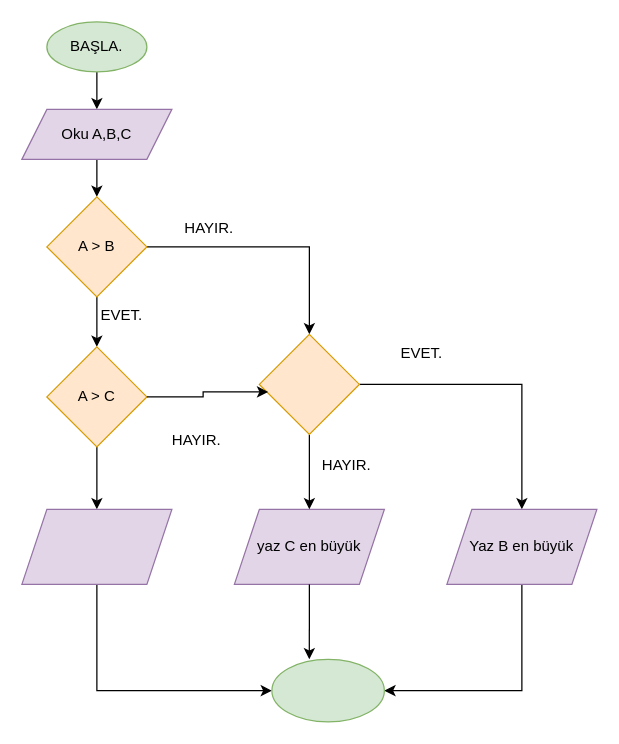
The diagram is 619 pixels wide and 744 high, and some of its shapes have lost their labels. Here are the shapes that lost their labels. From the top down, the centre of each, then its label:
At (308,383): "B > C".
At (96,546): "Yaz A en büyük".
At (327,690): "DUR.".
